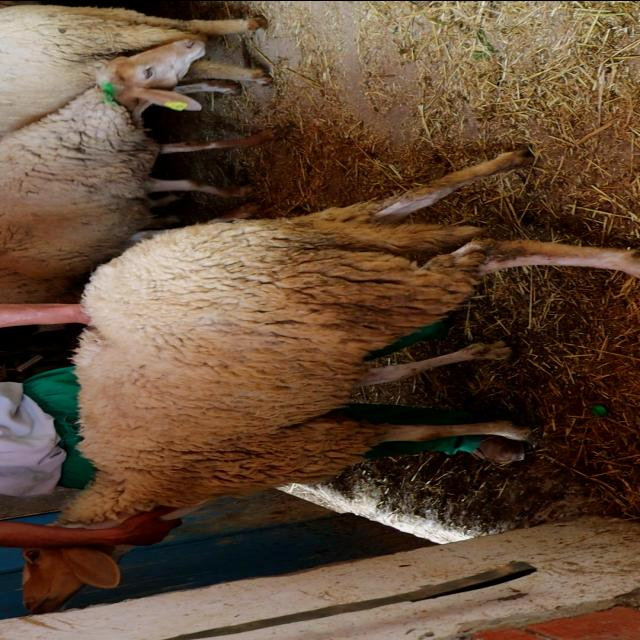Score_4: (58, 149, 639, 525)
